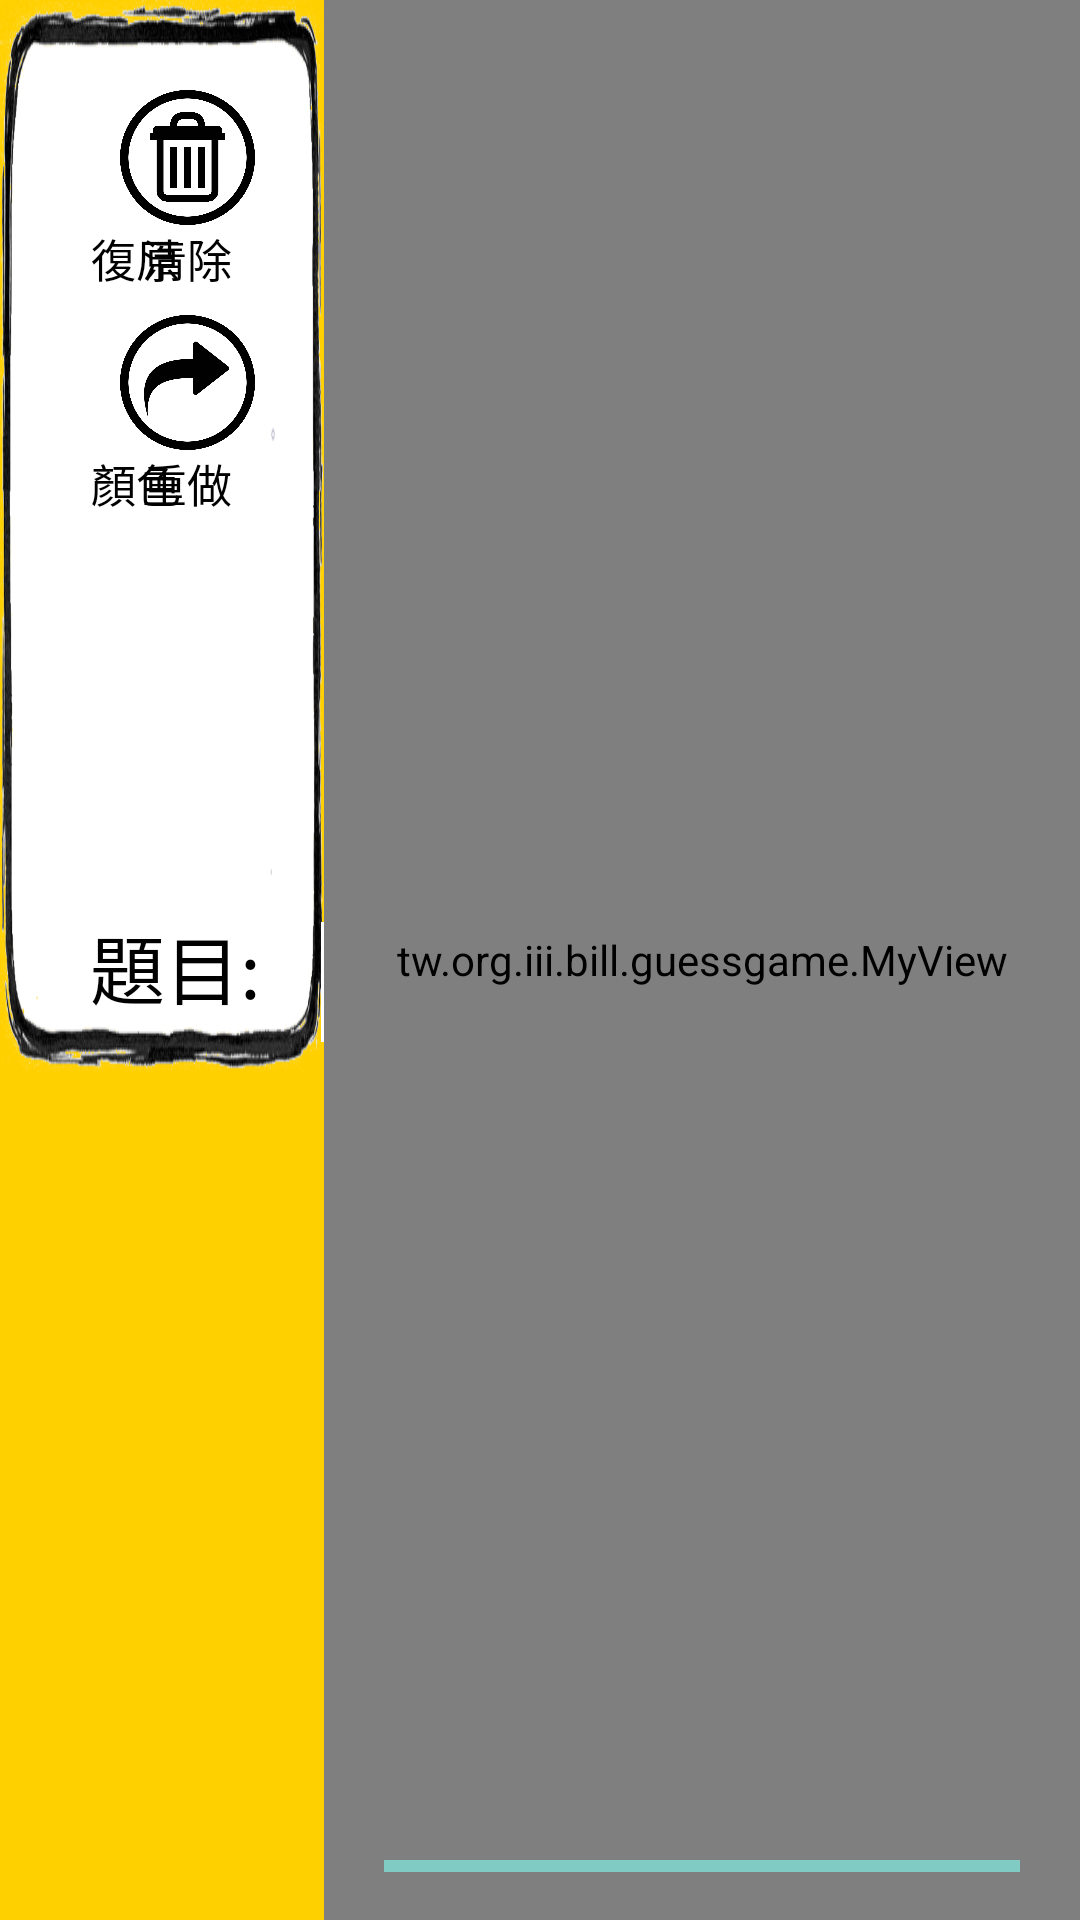

Screen size 1080 × 1920. Icon name, then its box in pixels as (x1, y1, x2, y2):
clear: (120, 90, 255, 225)
redo: (120, 315, 255, 450)
